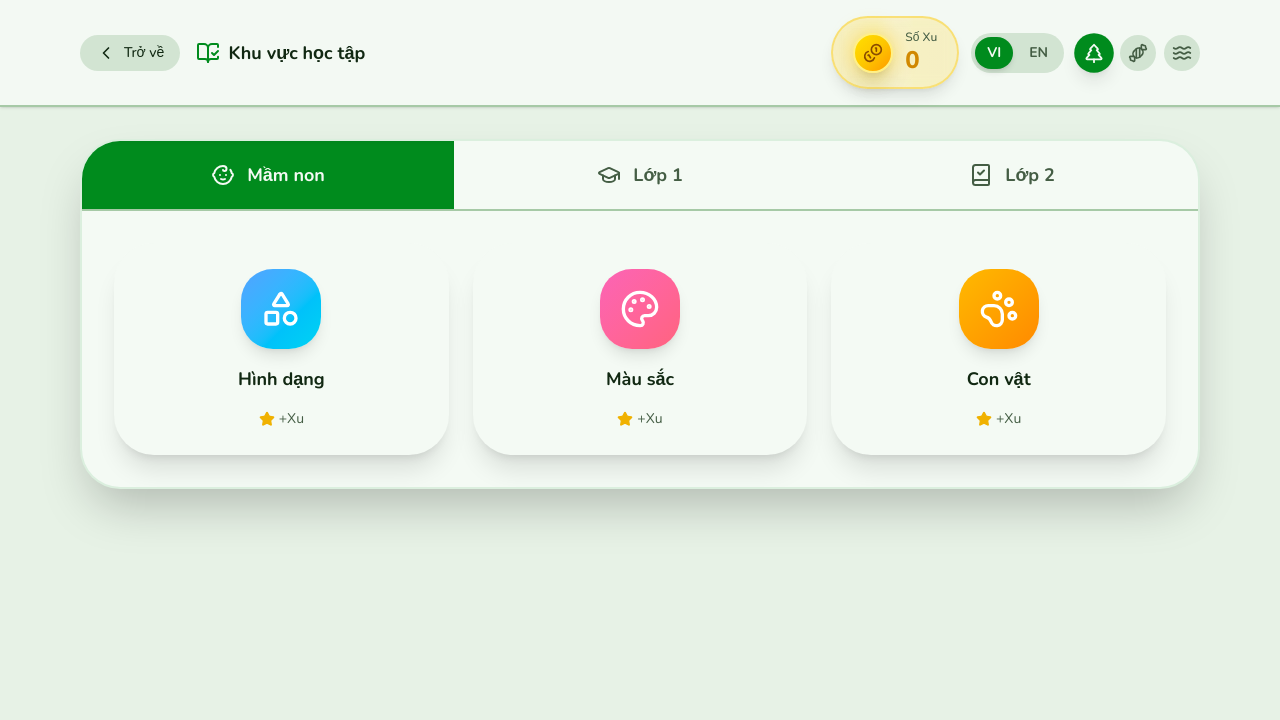
Scenario: LearningZone — DB-backed content subjects › TC-U118 | opening a preschool subject shows a loading state, then a question
Click the button with test id "quiz-shapes" at (281, 349), box [114,243,449,455]
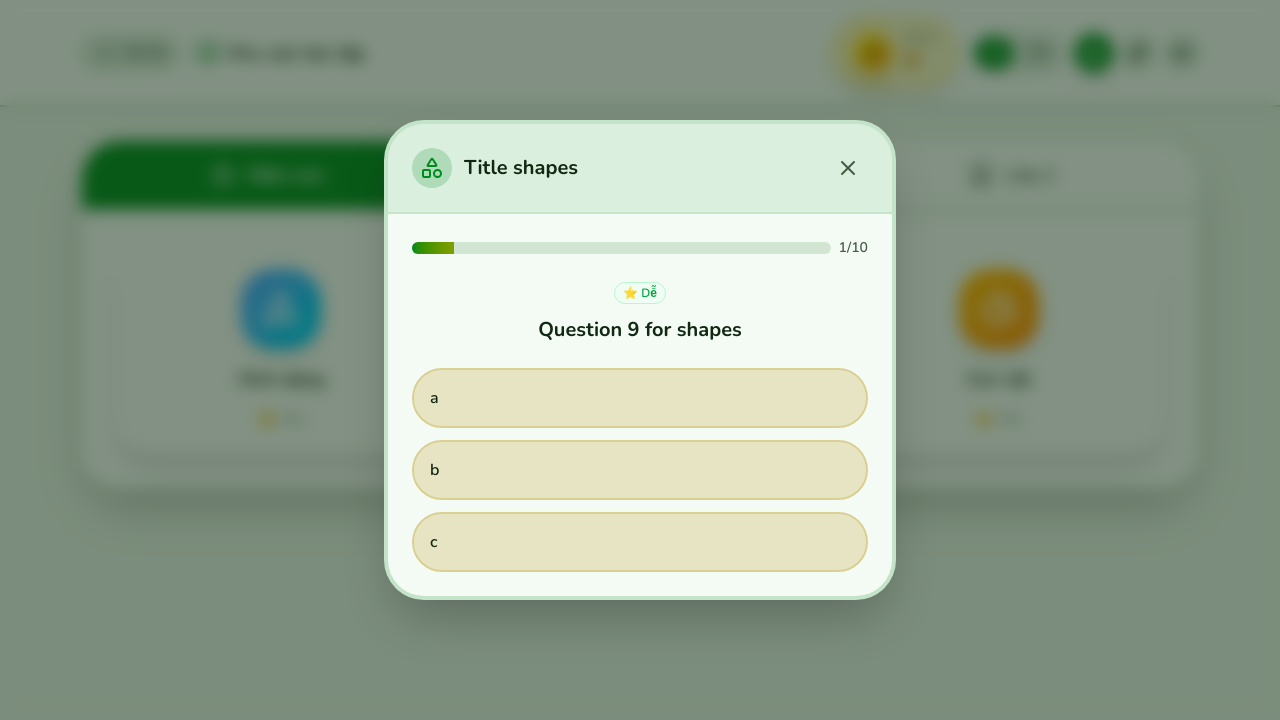
Expected: the element with test id "quiz-loading" is shown, [412,238,868,258]
Expected: the heading with test id "quiz-question" shows "for shapes", [538,316,742,343]
